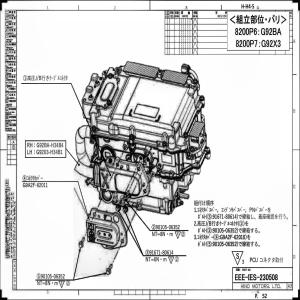PartNumber: (36, 142, 64, 149), (22, 182, 49, 189), (212, 240, 237, 247), (156, 223, 180, 230), (213, 213, 237, 220), (36, 149, 63, 155), (40, 273, 66, 279), (212, 227, 237, 233), (220, 234, 245, 240), (150, 249, 174, 255)
